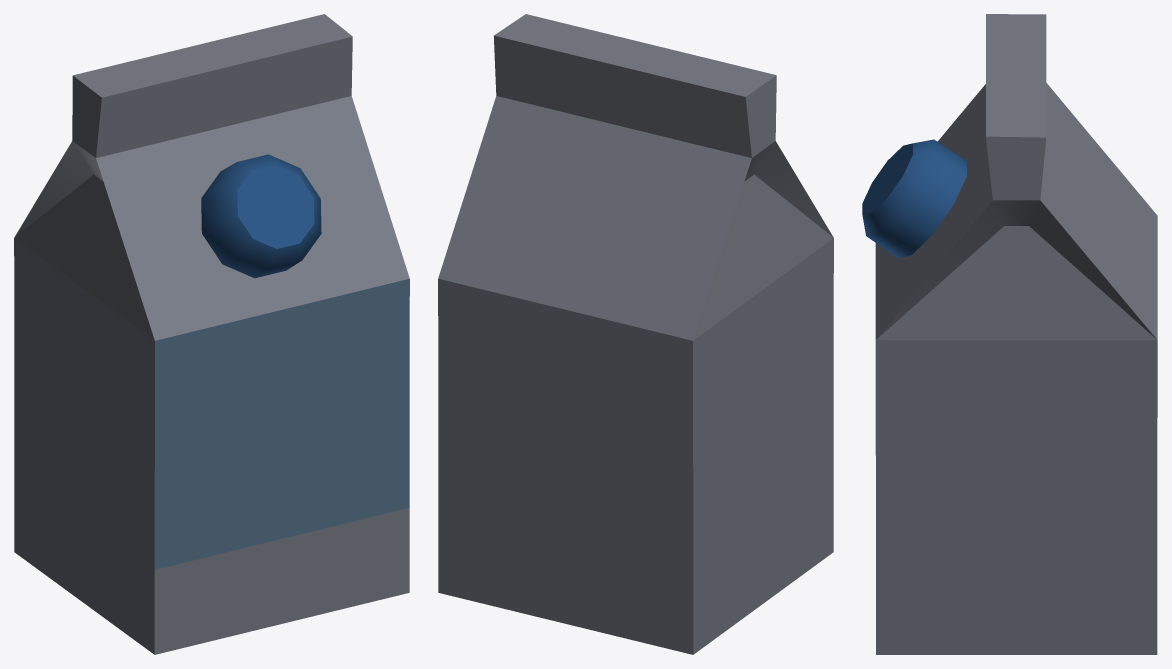
The model's file is milk_packet_01.fbx.
The picture shows the model from 3 angles, left to right: view 1: azimuth 30°, elevation 25°; view 2: azimuth 150°, elevation 25°; view 3: azimuth 270°, elevation 25°; orthographic projection.
Parts seen in each view (by area): view 1: milk_packet_01; view 2: milk_packet_01; view 3: milk_packet_01.
Boxes of the visible parts, bbox=[...] form: milk_packet_01: bbox=[14, 14, 409, 654]; milk_packet_01: bbox=[438, 14, 833, 654]; milk_packet_01: bbox=[862, 14, 1157, 654].
Size of the model in its own units: 23.87 by 46.1 by 23.84.
